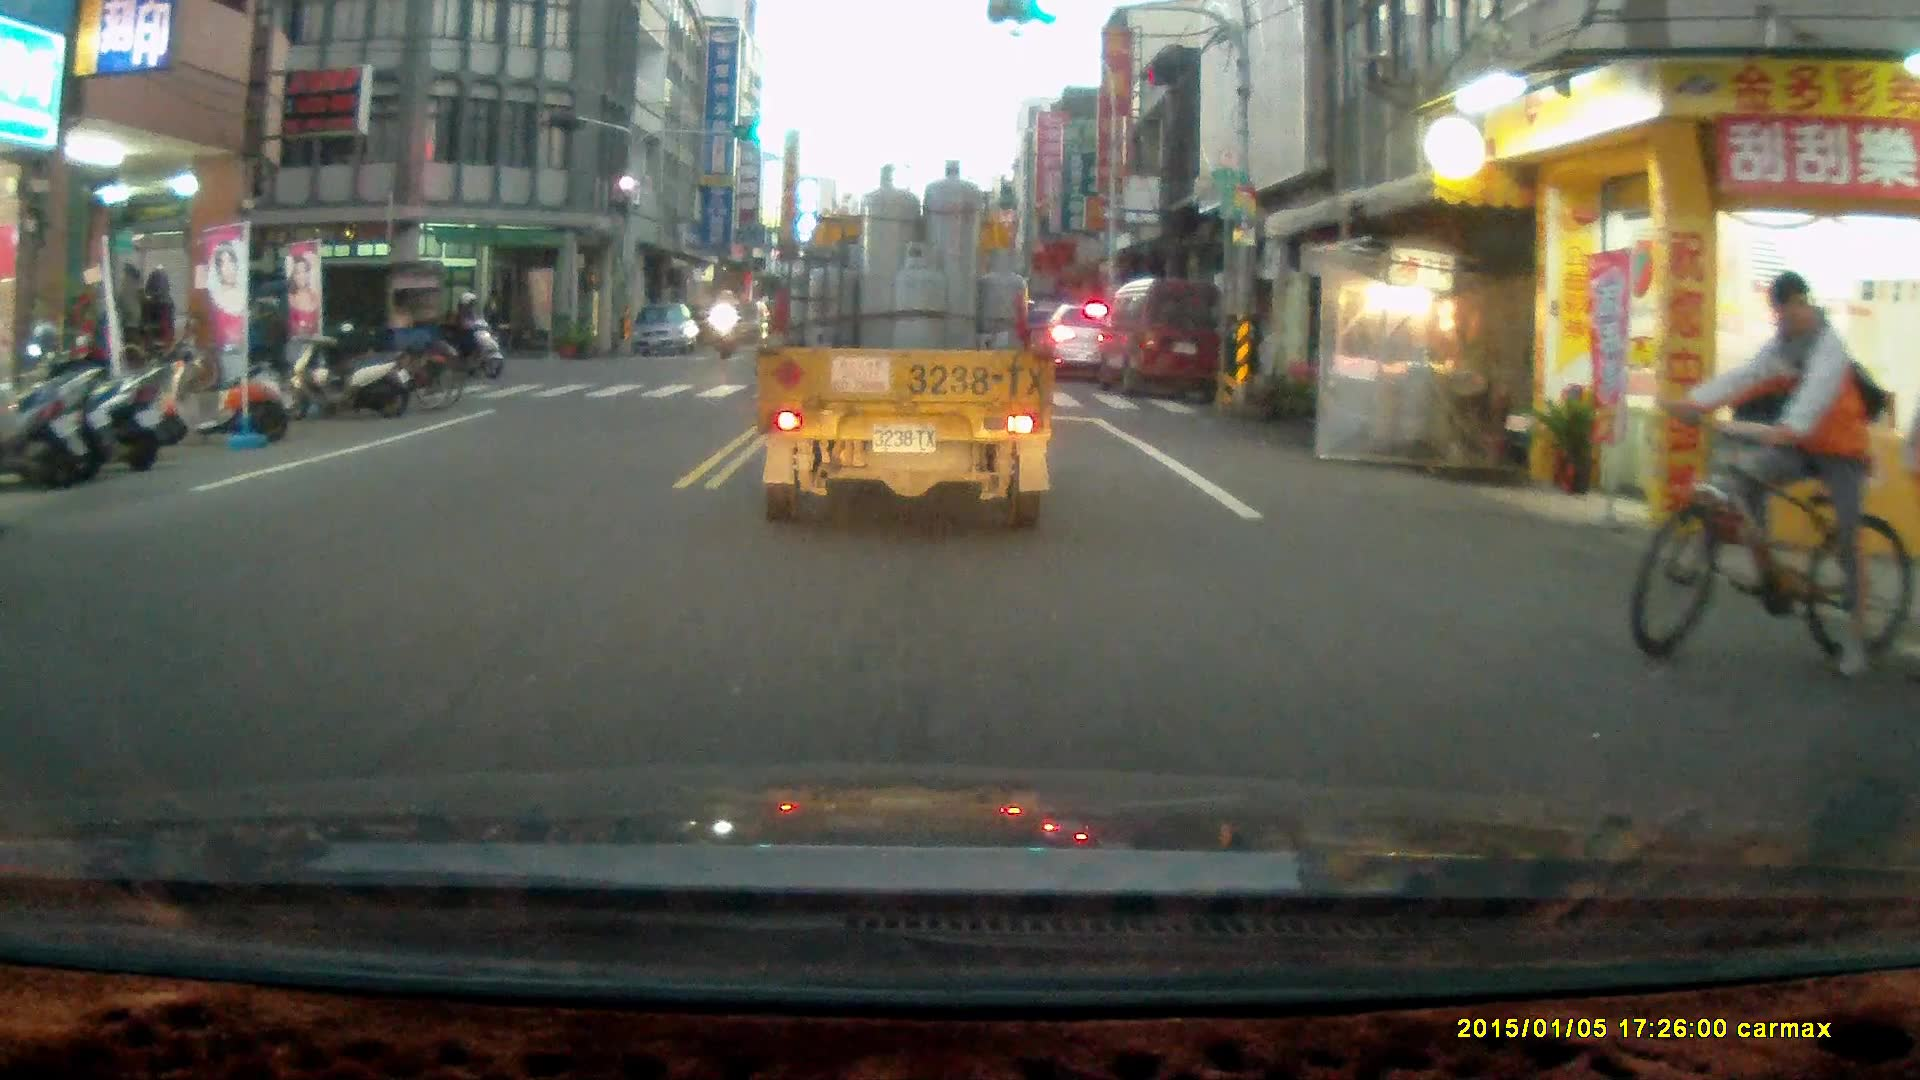pedestrian: (139, 266, 175, 378), (481, 286, 504, 356)
rider: (1629, 268, 1911, 680), (435, 284, 504, 377), (709, 279, 750, 355)
vehicle: (753, 160, 1050, 526), (220, 247, 457, 380), (1095, 277, 1226, 399), (1045, 303, 1122, 381), (631, 301, 700, 356)
